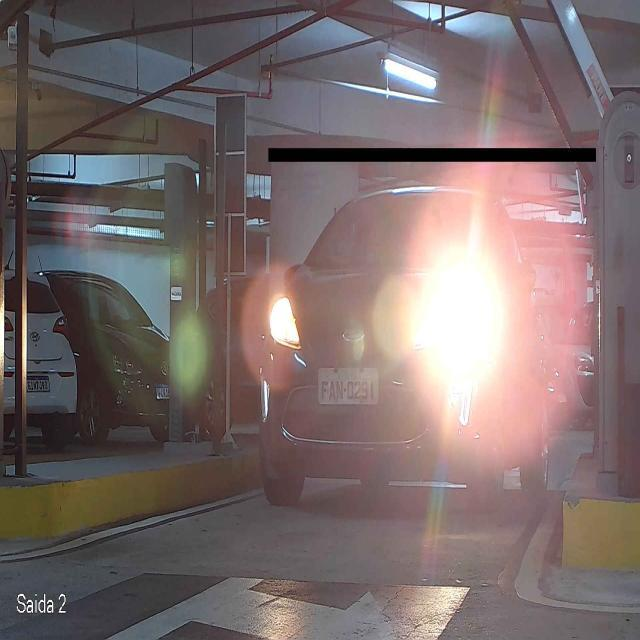old_plate: (315, 366, 381, 408)
